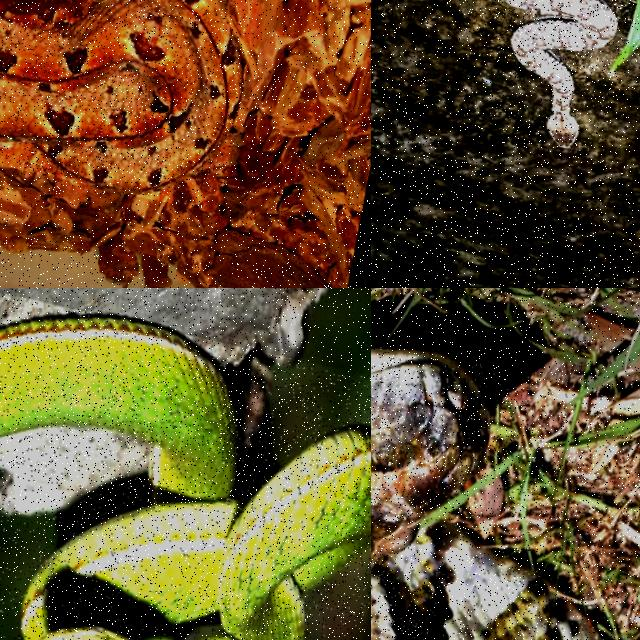Calloselasma rhodostoma: (0, 0, 242, 193)
Ovophis monticola: (503, 0, 616, 146)
Python bivittatus: (371, 349, 599, 639)
Trimeresurus: (0, 317, 370, 639)
